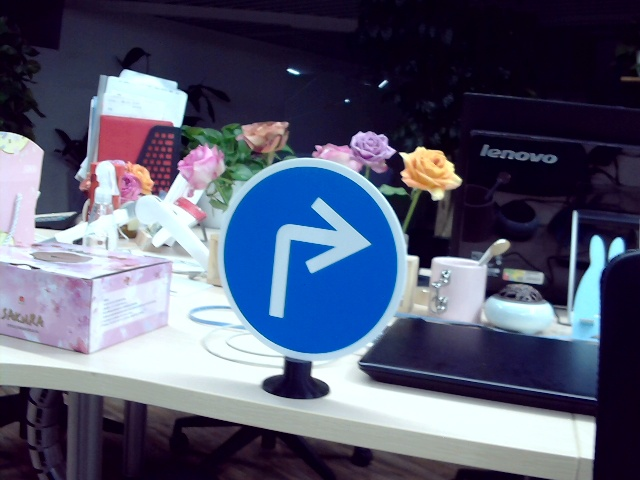turn_right: (255, 192, 370, 323)
